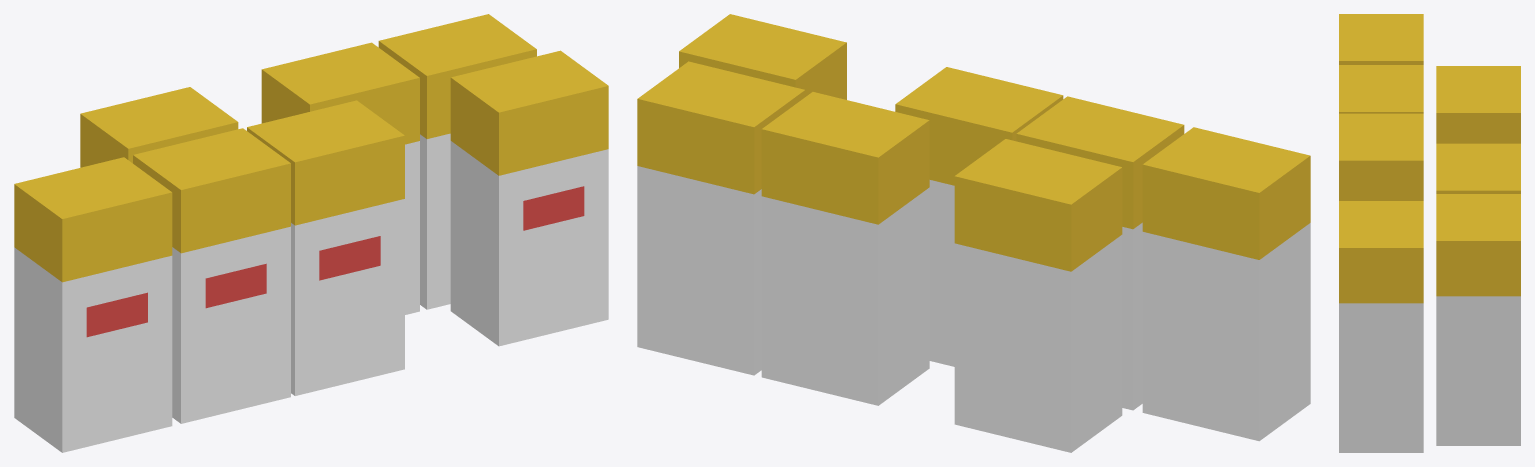
The model's file is ShelfItem8.glb.
The picture shows the model from 3 angles, left to right: view 1: azimuth 30°, elevation 25°; view 2: azimuth 150°, elevation 25°; view 3: azimuth 270°, elevation 25°; orthographic projection. The views are drawn at different scales.
Parts seen in each view (by area): view 1: SI_Prop_ShelfItem_08; view 2: SI_Prop_ShelfItem_08; view 3: SI_Prop_ShelfItem_08.
Boxes of the visible parts, x1,y1,x2,y2 form: SI_Prop_ShelfItem_08: (14,14,608,452); SI_Prop_ShelfItem_08: (637,14,1310,452); SI_Prop_ShelfItem_08: (1339,14,1520,452).
Bounding box in the file's own units: 0.0135 × 0.00551 × 0.00443.
1 material, 1 textured.
